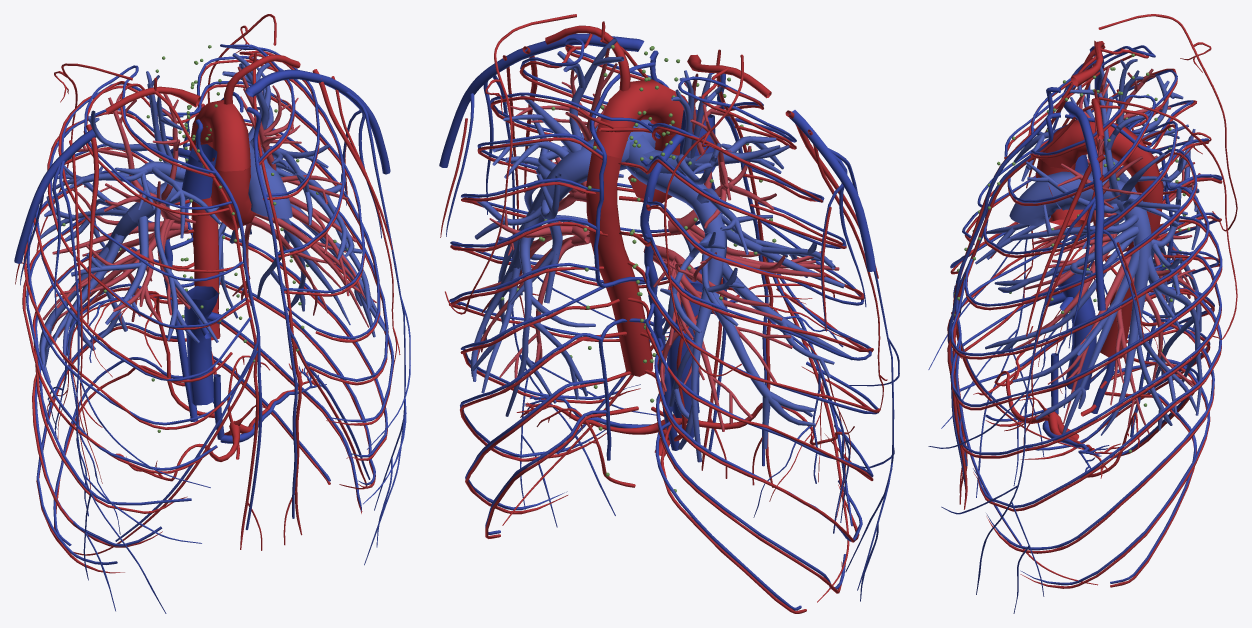
The model's file is vessels-thorax.glb.
3 views of the same model, side by side, from view 1: azimuth 30°, elevation 25°; view 2: azimuth 150°, elevation 25°; view 3: azimuth 270°, elevation 25° (orthographic). The views are drawn at different scales.
Parts seen in each view (by area): view 1: vessel-right-superior-intercostal-vein, vessel-posterior-intercostal-arteries-r, vessel-left-superior-intercostal-vein, vessel-posterior-intercostal-arteries-l, vessel-aortic-arch, vessel-inferior-vena-cava-thoracic-part, vessel-lateral-thoracic-vein-r, vessel-thoracic-aorta, vessel-lateral-thoracic-vein-l, vessel-ascending-aorta, vessel-anterior-segmental-artery-of-right-lung, vessel-apical-segmental-artery-of-right-lung (+51 smaller); view 2: vessel-posterior-intercostal-arteries-r, vessel-right-superior-intercostal-vein, vessel-left-superior-intercostal-vein, vessel-posterior-intercostal-arteries-l, vessel-thoracic-aorta, vessel-aortic-arch, vessel-posterior-basal-segmental-artery-of-left-lung, vessel-azygos-vein, vessel-anterior-basal-segmental-artery-of-right-lung, vessel-superior-segmental-artery-of-right-lung, vessel-apical-segmental-artery-of-right-lung, vessel-axillary-vein-r (+42 smaller); view 3: vessel-left-superior-intercostal-vein, vessel-posterior-intercostal-arteries-l, vessel-right-superior-intercostal-vein, vessel-posterior-intercostal-arteries-r, vessel-lateral-basal-segmental-artery-of-left-lung, vessel-aortic-arch, vessel-lateral-thoracic-vein-l, vessel-anterior-basal-segmental-artery-of-left-lung, vessel-thoracic-aorta, vessel-left-pulmonary-artery, vessel-inferior-vena-cava-thoracic-part, vessel-posterior-basal-segmental-artery-of-left-lung (+39 smaller).
Boxes of the visible parts, bbox=[...] form: vessel-right-superior-intercostal-vein: bbox=[26, 65, 257, 564]; vessel-posterior-intercostal-arteries-r: bbox=[22, 85, 250, 573]; vessel-left-superior-intercostal-vein: bbox=[157, 44, 394, 511]; vessel-posterior-intercostal-arteries-l: bbox=[191, 59, 393, 513]; vessel-aortic-arch: bbox=[191, 100, 250, 171]; vessel-inferior-vena-cava-thoracic-part: bbox=[184, 286, 218, 405]; vessel-lateral-thoracic-vein-r: bbox=[59, 161, 210, 613]; vessel-thoracic-aorta: bbox=[189, 133, 220, 340]; vessel-lateral-thoracic-vein-l: bbox=[346, 91, 410, 565]; vessel-ascending-aorta: bbox=[211, 167, 255, 230]; vessel-anterior-segmental-artery-of-right-lung: bbox=[115, 161, 220, 238]; vessel-apical-segmental-artery-of-right-lung: bbox=[88, 71, 183, 164]; vessel-posterior-intercostal-arteries-r: bbox=[599, 127, 880, 613]; vessel-right-superior-intercostal-vein: bbox=[641, 76, 878, 610]; vessel-left-superior-intercostal-vein: bbox=[449, 37, 700, 534]; vessel-posterior-intercostal-arteries-l: bbox=[449, 96, 681, 538]; vessel-thoracic-aorta: bbox=[586, 152, 653, 376]; vessel-aortic-arch: bbox=[592, 79, 687, 158]; vessel-posterior-basal-segmental-artery-of-left-lung: bbox=[505, 210, 595, 416]; vessel-azygos-vein: bbox=[640, 129, 684, 450]; vessel-anterior-basal-segmental-artery-of-right-lung: bbox=[712, 292, 815, 448]; vessel-superior-segmental-artery-of-right-lung: bbox=[660, 229, 744, 335]; vessel-apical-segmental-artery-of-right-lung: bbox=[671, 70, 724, 184]; vessel-axillary-vein-r: bbox=[789, 110, 876, 271]; vessel-left-superior-intercostal-vein: bbox=[950, 94, 1222, 585]; vessel-posterior-intercostal-arteries-l: bbox=[950, 124, 1222, 588]; vessel-right-superior-intercostal-vein: bbox=[950, 45, 1222, 458]; vessel-posterior-intercostal-arteries-r: bbox=[950, 68, 1222, 459]; vessel-lateral-basal-segmental-artery-of-left-lung: bbox=[1012, 250, 1139, 437]; vessel-aortic-arch: bbox=[1039, 120, 1155, 175]; vessel-lateral-thoracic-vein-l: bbox=[928, 196, 1095, 613]; vessel-anterior-basal-segmental-artery-of-left-lung: bbox=[1101, 321, 1197, 435]; vessel-thoracic-aorta: bbox=[1100, 162, 1163, 358]; vessel-left-pulmonary-artery: bbox=[1102, 178, 1151, 321]; vessel-inferior-vena-cava-thoracic-part: bbox=[1050, 267, 1096, 390]; vessel-posterior-basal-segmental-artery-of-left-lung: bbox=[1147, 255, 1202, 415].
Bounding box in the file's own units: 0.3129 × 0.3895 × 0.223.
